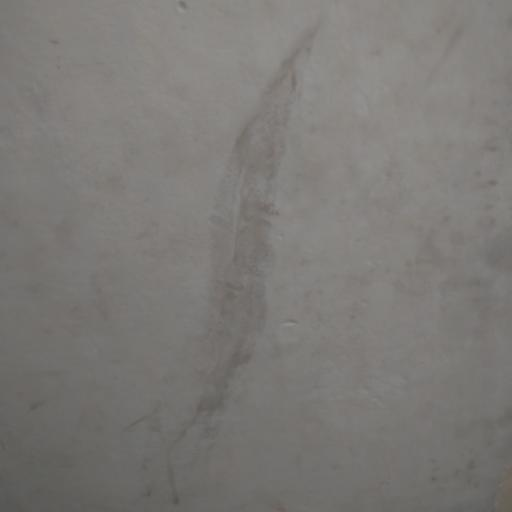stain: (155, 13, 318, 503)
